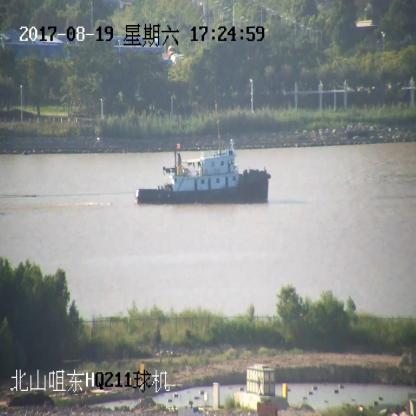Fishing Boat: (136, 146, 270, 206)
